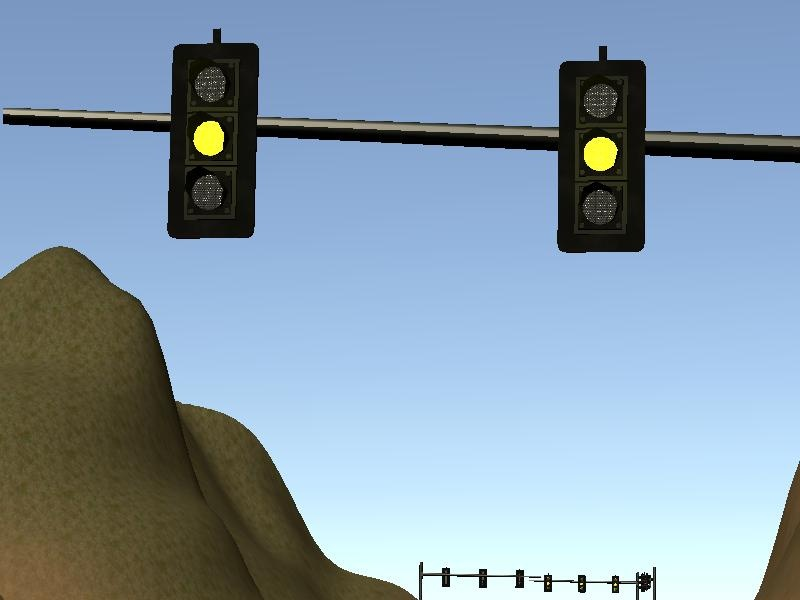YELLOW: (167, 43, 259, 238), (555, 60, 647, 252)
